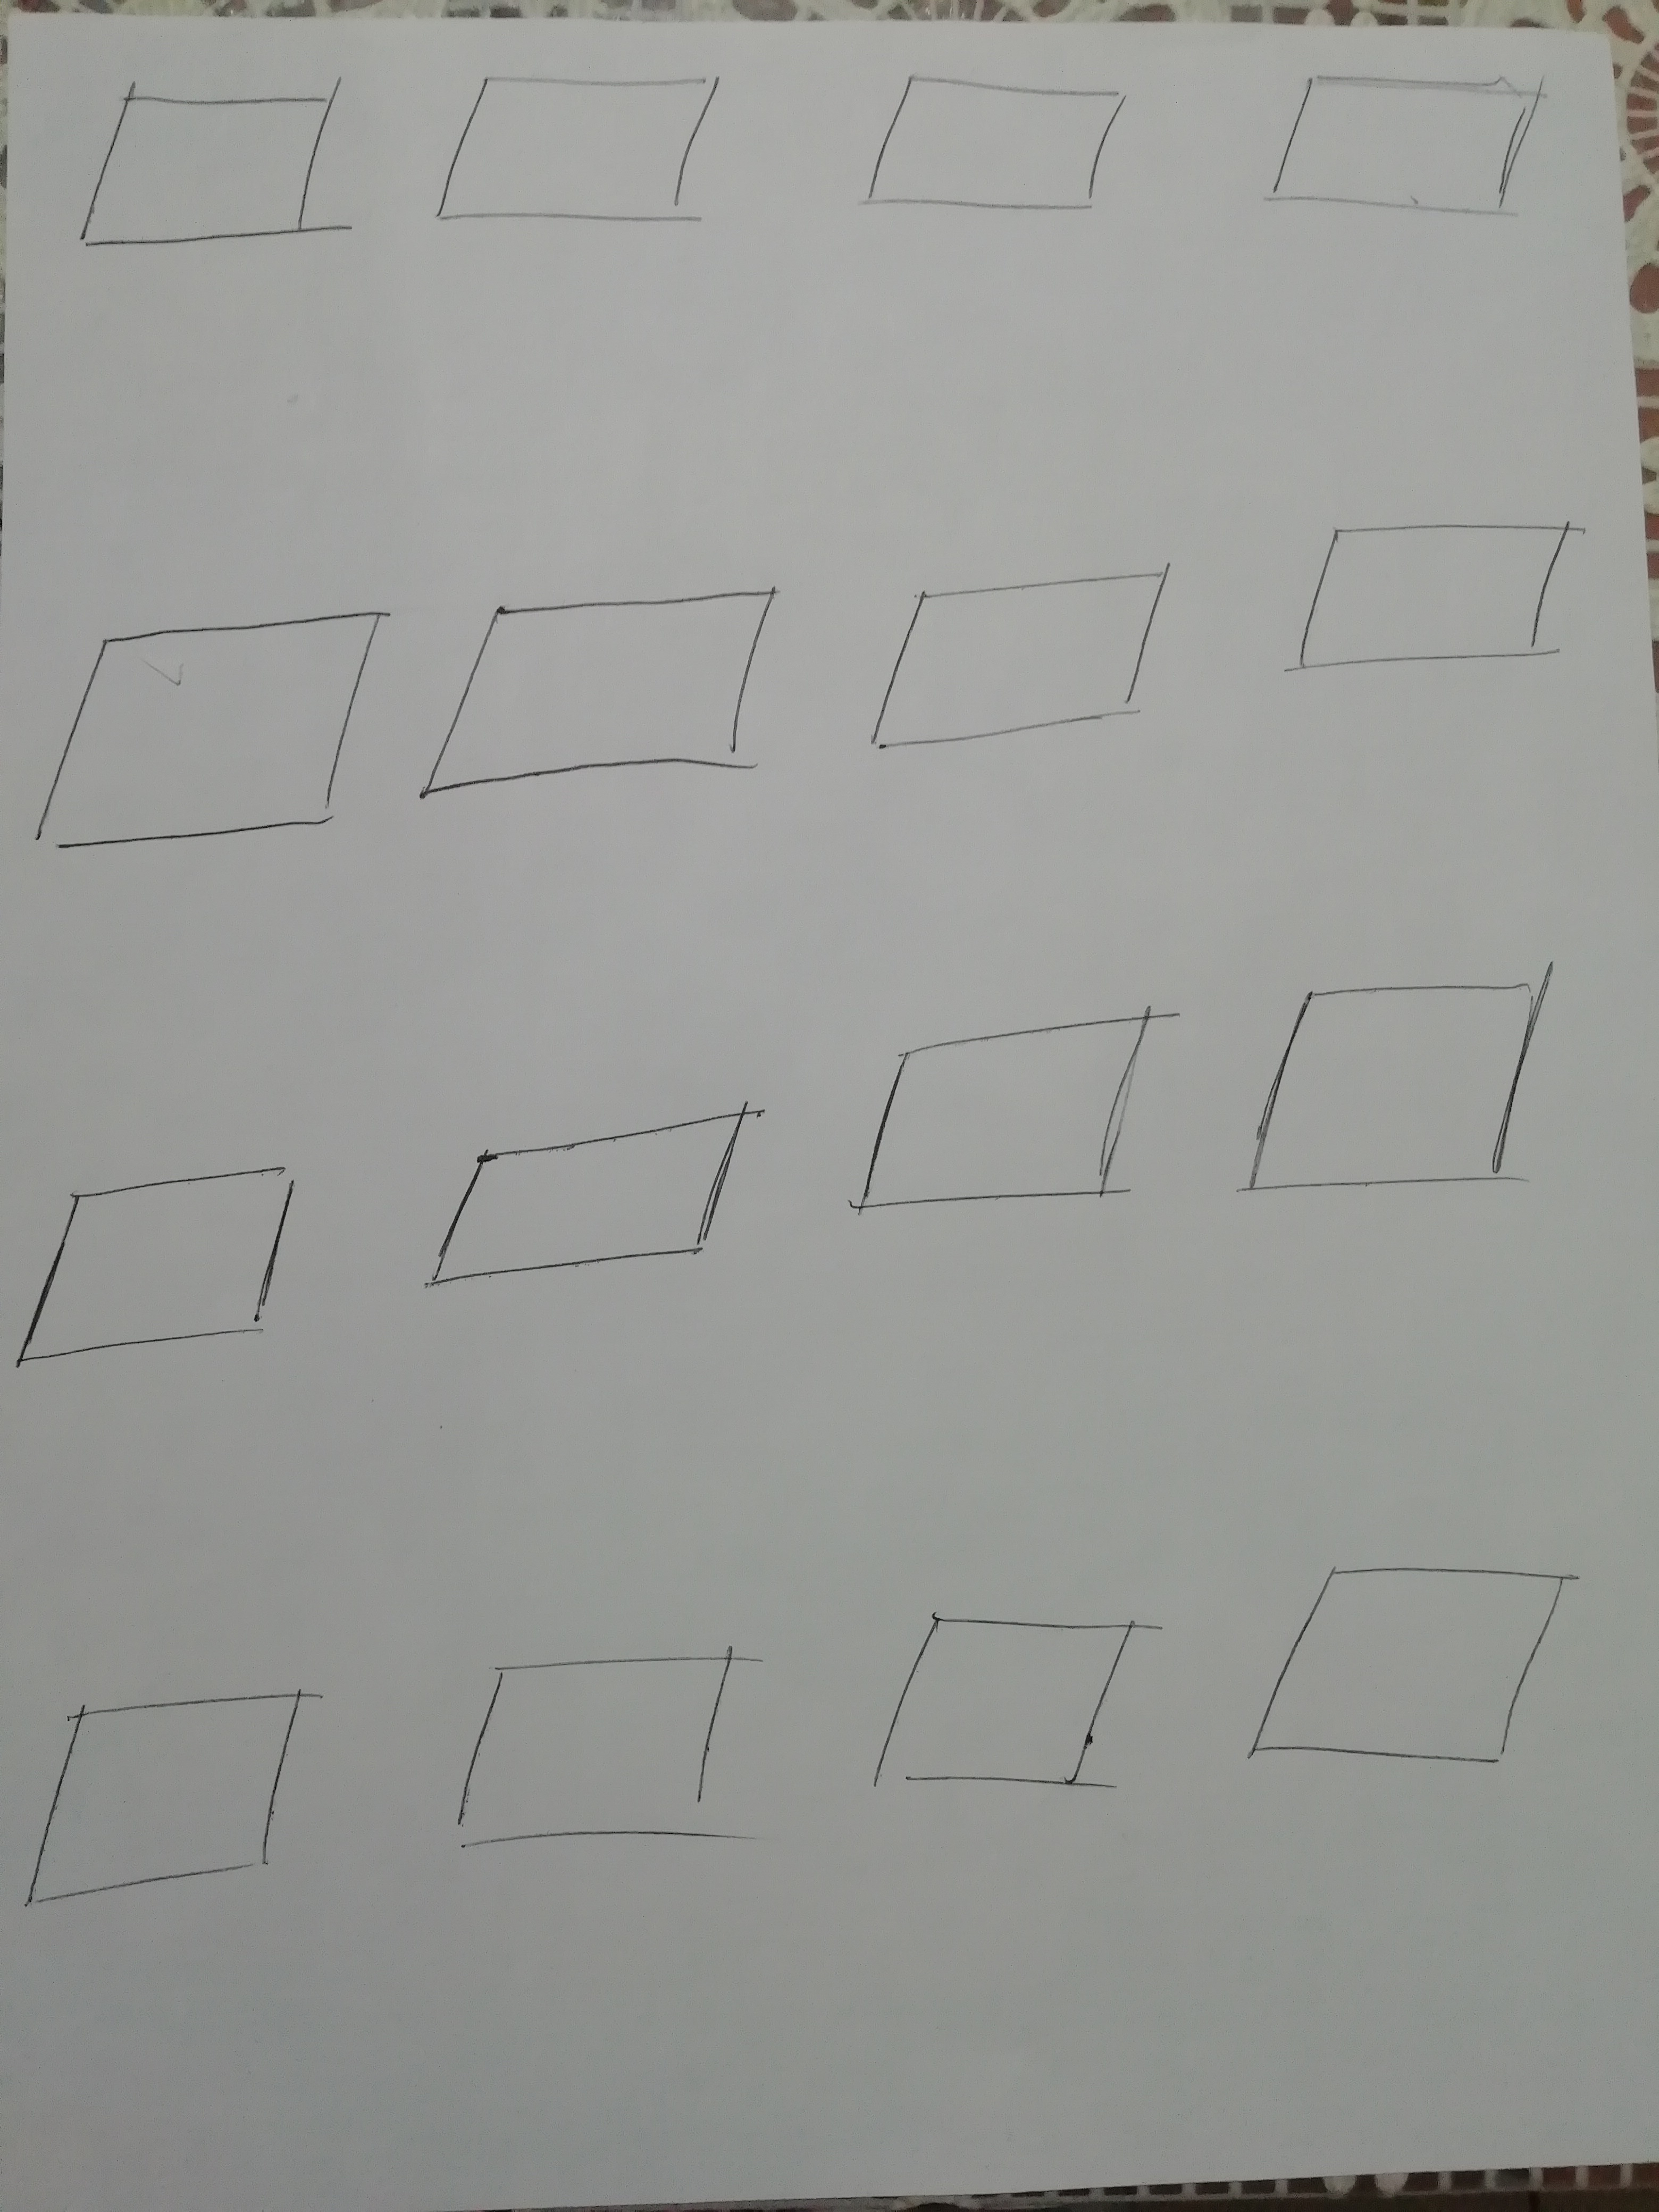scan: (403, 1616, 793, 1921), (1225, 942, 1593, 1254), (413, 585, 821, 862), (19, 585, 413, 869), (1225, 1534, 1612, 1808), (19, 1630, 335, 1935), (1239, 475, 1614, 726), (828, 996, 1197, 1247), (852, 1576, 1175, 1864), (406, 1075, 770, 1322), (1243, 38, 1582, 294), (845, 554, 1197, 798), (0, 1148, 350, 1390), (838, 31, 1154, 291), (420, 42, 756, 277), (26, 64, 385, 280)
